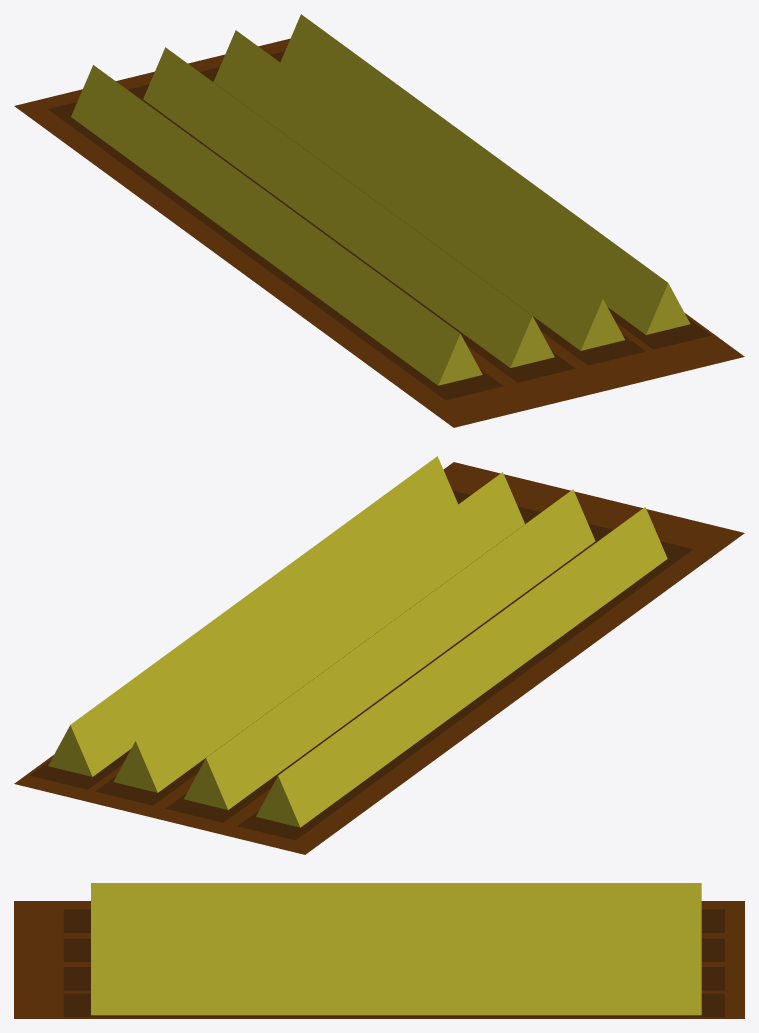
Rendered from Veg.fbx.
The picture shows the model from 3 angles, top to bottom: view 1: azimuth 30°, elevation 25°; view 2: azimuth 150°, elevation 25°; view 3: azimuth 270°, elevation 25°; orthographic projection. The views are drawn at different scales.
Visible parts, largest first — view 1: Plane; view 2: Plane; view 3: Plane.
Part boxes in pixels (<box>): Plane: <box>14,14,744,427</box>; Plane: <box>14,456,744,854</box>; Plane: <box>14,883,744,1018</box>.
Bounding box in the file's own units: 200 × 31.08 × 523.
